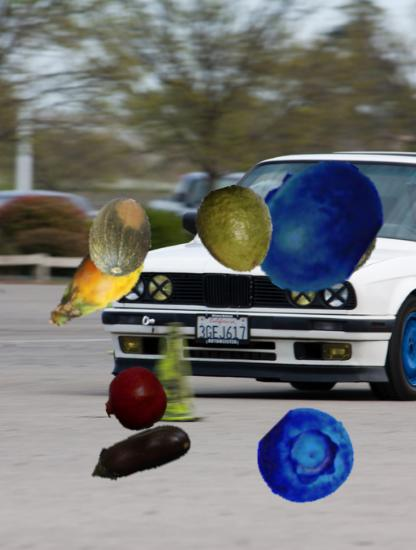Cactus: (36, 227, 153, 344)
Eggplant: (86, 400, 195, 509)
Guava: (191, 186, 281, 276)
Huckleberry: (243, 154, 386, 297), (257, 407, 356, 506)
Melon: (271, 166, 385, 280), (84, 199, 165, 280)
Pomegranate: (104, 368, 167, 431)
